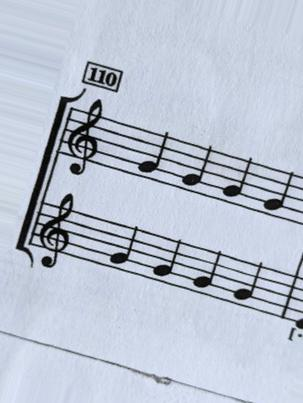G: (134, 125, 173, 187), (218, 152, 255, 212), (260, 164, 295, 227), (229, 258, 265, 316), (106, 220, 141, 279), (179, 140, 212, 200), (191, 246, 225, 302), (150, 234, 182, 288)
